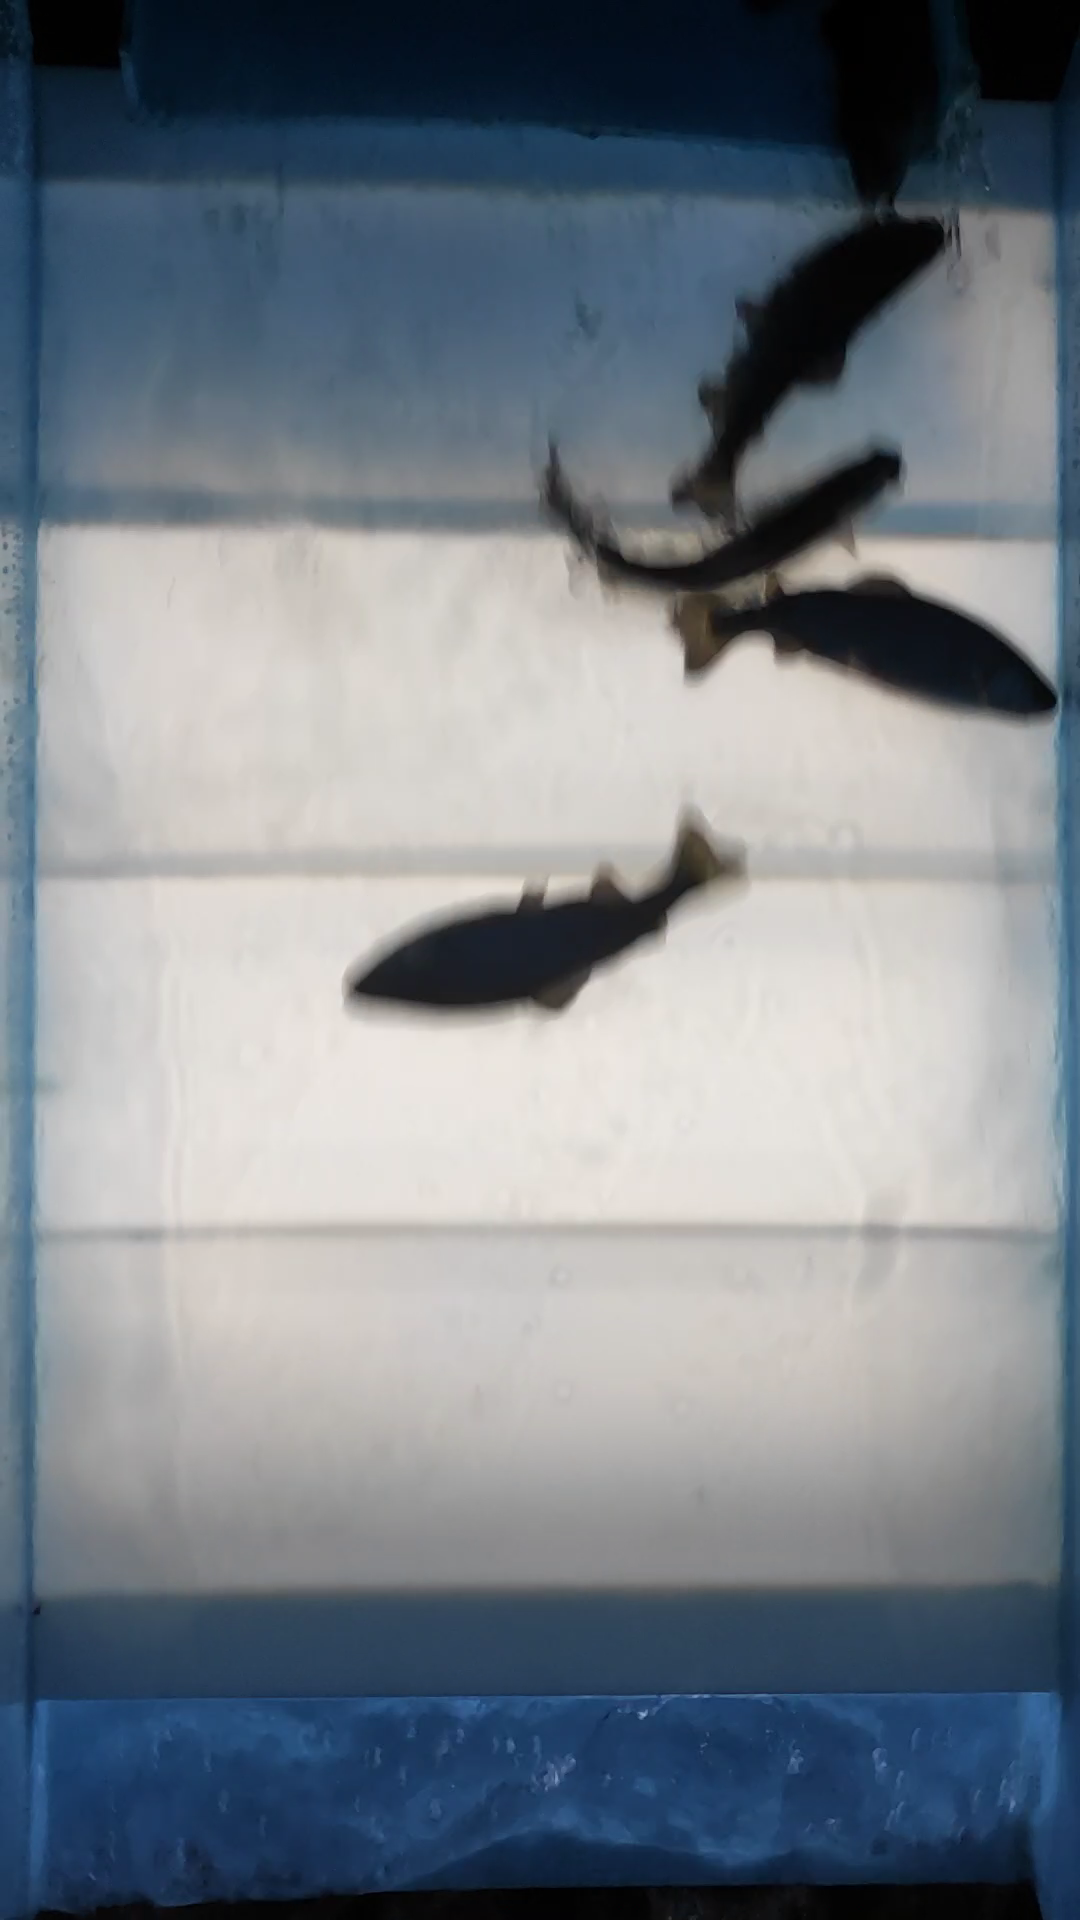fish: (660, 212, 957, 548), (336, 809, 748, 1018), (525, 424, 916, 606), (675, 580, 1057, 736)
